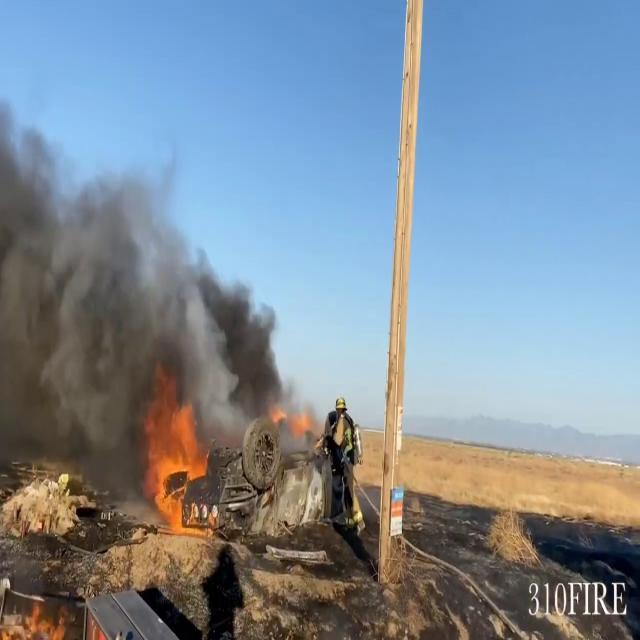Fire: (136, 376, 214, 533)
Smoke: (0, 46, 293, 494)
